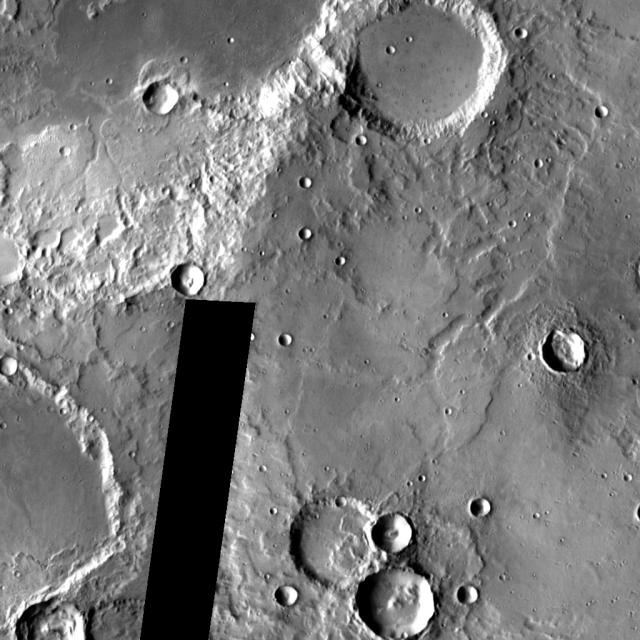crater: (0, 338, 120, 601), (343, 1, 512, 140), (290, 497, 378, 588), (354, 567, 437, 640), (16, 599, 88, 640), (84, 602, 144, 640), (542, 330, 587, 372), (371, 513, 413, 553), (0, 231, 27, 288), (170, 262, 204, 297), (143, 83, 178, 115), (32, 228, 62, 251), (276, 585, 298, 606), (457, 584, 478, 604), (471, 498, 491, 517), (0, 356, 18, 376), (279, 334, 292, 346), (595, 106, 608, 118), (299, 228, 311, 240), (300, 177, 312, 188), (516, 28, 528, 38), (356, 135, 366, 146), (336, 497, 346, 508), (590, 512, 600, 522), (336, 256, 346, 266), (60, 146, 70, 156), (41, 248, 51, 257), (534, 159, 544, 168), (224, 164, 234, 172), (386, 46, 395, 54), (2, 298, 10, 306), (5, 307, 13, 315), (509, 220, 517, 228), (162, 187, 170, 195), (624, 474, 632, 482), (180, 56, 188, 64), (259, 465, 267, 473), (270, 507, 278, 515), (528, 353, 536, 361), (428, 0, 440, 5), (637, 503, 640, 522), (320, 92, 328, 99), (558, 138, 566, 145), (17, 344, 24, 352), (0, 422, 7, 430), (210, 176, 218, 183), (418, 475, 426, 482), (481, 111, 488, 118), (87, 415, 94, 422), (168, 321, 175, 328), (60, 408, 67, 415), (75, 206, 82, 213), (445, 408, 452, 415), (424, 138, 432, 144), (413, 490, 420, 496), (632, 379, 639, 385), (401, 632, 408, 638), (228, 38, 235, 44), (70, 124, 77, 130), (500, 274, 506, 280), (368, 506, 374, 512), (427, 573, 433, 579), (140, 326, 146, 332), (36, 288, 42, 294), (376, 82, 382, 88), (29, 294, 35, 300), (499, 430, 505, 436), (14, 572, 20, 578), (190, 182, 196, 188), (406, 36, 412, 42), (129, 452, 135, 458), (530, 120, 536, 126), (616, 162, 622, 168), (500, 574, 506, 580), (602, 473, 608, 479), (533, 512, 539, 518), (106, 78, 112, 84), (250, 333, 254, 341), (425, 348, 431, 353), (508, 390, 514, 395), (302, 348, 308, 353), (48, 407, 54, 412), (415, 208, 421, 213), (56, 206, 62, 211), (241, 247, 247, 252), (614, 198, 620, 203), (628, 338, 634, 343), (443, 312, 448, 318), (432, 459, 438, 464), (324, 466, 329, 472), (159, 302, 164, 307), (257, 133, 262, 138), (108, 295, 113, 300), (608, 307, 613, 312), (164, 327, 169, 332), (507, 576, 512, 581), (223, 153, 228, 158), (441, 623, 446, 628), (573, 452, 578, 457), (490, 120, 495, 125), (487, 202, 492, 207), (232, 219, 237, 224), (338, 242, 343, 247), (272, 213, 277, 218), (625, 214, 630, 219), (395, 397, 400, 402), (305, 348, 311, 352), (594, 339, 600, 343), (488, 96, 494, 100), (630, 157, 636, 161), (552, 420, 558, 424), (510, 160, 516, 164), (506, 525, 512, 529), (407, 482, 413, 486), (379, 142, 385, 146), (259, 252, 265, 256), (323, 314, 329, 318), (549, 74, 555, 78), (620, 314, 624, 320), (403, 310, 408, 314), (249, 250, 254, 254), (379, 398, 384, 402), (626, 414, 630, 419), (464, 376, 469, 380), (559, 236, 564, 240), (371, 368, 376, 372), (52, 323, 56, 328), (235, 200, 240, 204), (142, 12, 146, 17), (632, 626, 636, 631), (493, 110, 498, 114), (374, 193, 378, 198), (519, 515, 524, 519), (314, 428, 318, 433), (317, 146, 322, 150), (596, 562, 601, 566), (519, 156, 523, 161), (432, 206, 437, 210), (273, 544, 278, 548), (448, 543, 452, 548), (224, 82, 228, 87), (629, 611, 634, 615), (402, 216, 407, 220), (611, 599, 615, 604), (263, 276, 267, 281), (41, 44, 46, 48), (277, 167, 281, 172), (610, 492, 614, 497), (526, 212, 530, 217), (503, 336, 508, 340), (138, 128, 142, 133), (90, 81, 94, 86), (546, 158, 551, 162), (520, 56, 525, 60), (355, 383, 359, 388), (101, 408, 106, 412), (314, 514, 318, 519), (483, 348, 488, 352), (285, 409, 289, 414), (518, 383, 522, 388), (264, 574, 269, 578), (158, 378, 163, 382), (364, 360, 369, 364), (460, 390, 465, 394), (627, 144, 631, 148), (257, 612, 261, 616), (578, 298, 582, 302), (562, 610, 566, 614), (17, 417, 21, 421), (504, 571, 508, 575), (280, 301, 284, 305), (506, 211, 510, 215), (635, 526, 639, 530), (506, 259, 510, 263), (496, 198, 500, 202), (355, 27, 359, 31), (360, 434, 364, 438), (62, 115, 66, 119), (524, 135, 528, 139), (446, 574, 450, 578), (613, 470, 617, 474), (302, 452, 306, 456), (560, 538, 564, 542), (532, 608, 536, 612), (586, 602, 590, 606), (1, 586, 5, 590), (434, 470, 438, 474), (602, 137, 606, 141), (510, 590, 514, 594), (545, 511, 549, 515), (286, 289, 290, 293), (310, 348, 314, 352), (616, 597, 620, 600), (440, 578, 444, 581)
